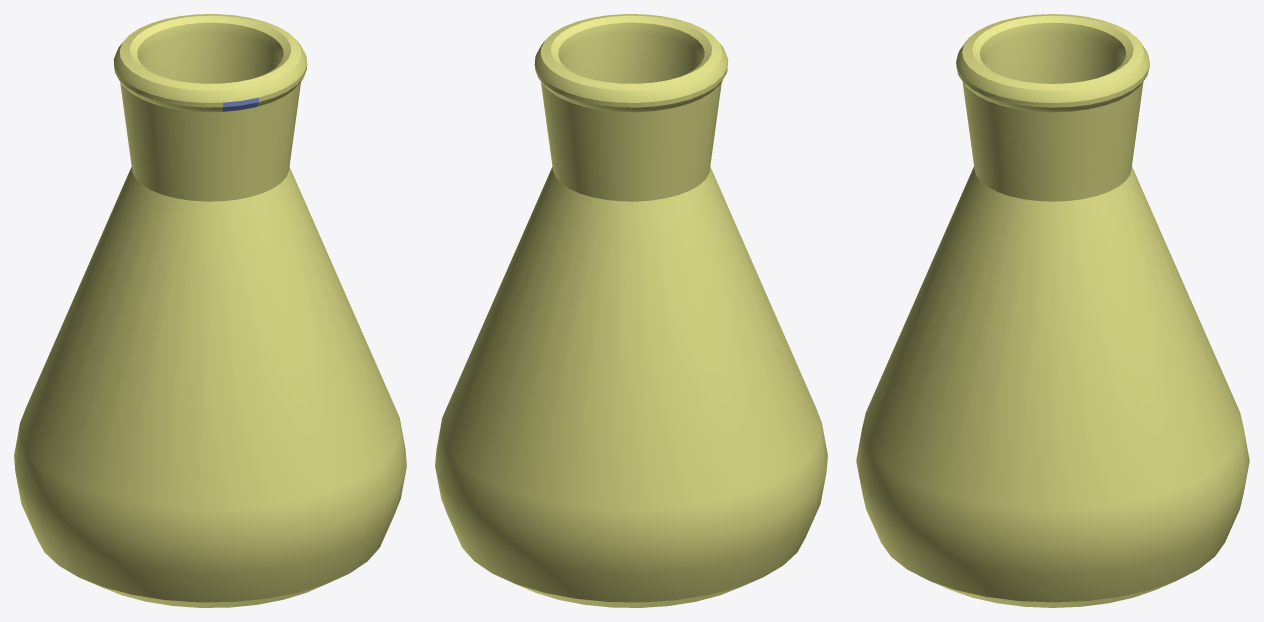
File: flask.fbx
The picture shows the model from 3 angles, left to right: view 1: azimuth 30°, elevation 25°; view 2: azimuth 150°, elevation 25°; view 3: azimuth 270°, elevation 25°; orthographic projection.
Parts seen in each view (by area): view 1: flask; view 2: flask; view 3: flask.
Boxes of the visible parts, <box> form: flask: <box>14,14,406,607</box>; flask: <box>435,14,827,607</box>; flask: <box>856,14,1249,607</box>.
Bounding box in the file's own units: 28.31 × 39.44 × 28.31.
